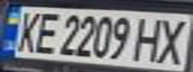0: (93, 12, 115, 60)
2: (54, 10, 81, 57), (75, 11, 96, 60)
9: (109, 12, 136, 61)
E: (30, 9, 63, 55)
H: (130, 14, 172, 63)
K: (9, 8, 45, 54)
X: (151, 16, 193, 65)
